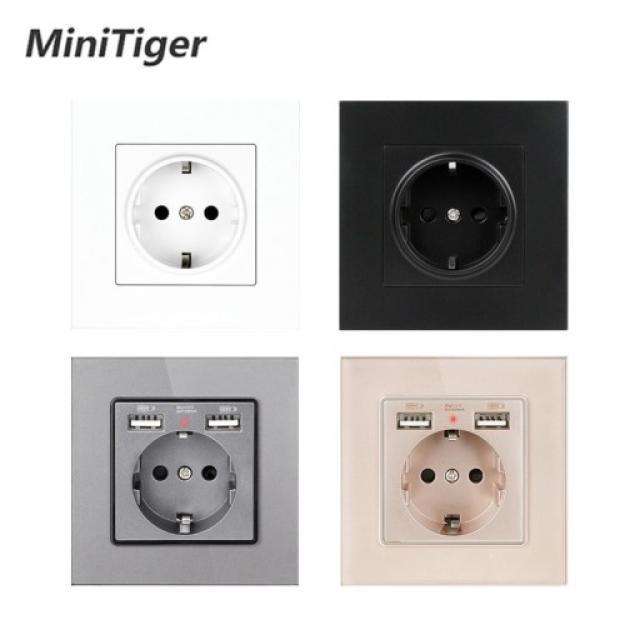typeb: (46, 87, 328, 352), (25, 350, 313, 606), (325, 351, 585, 611), (323, 88, 575, 344)
